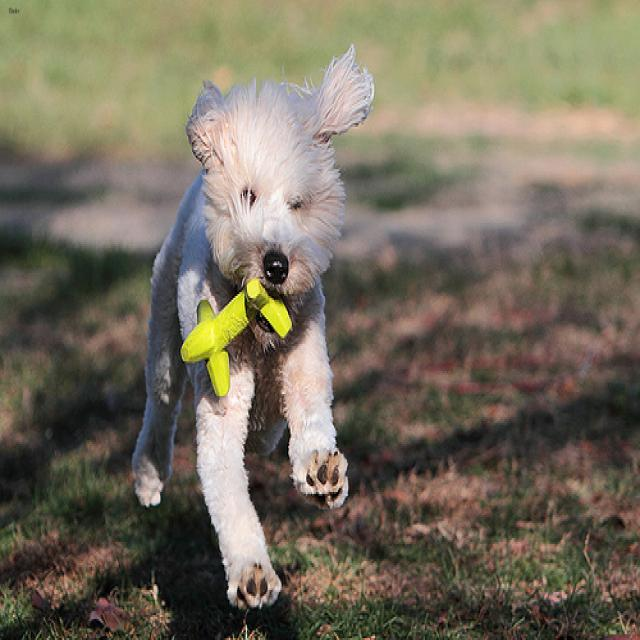dog-wheaten_terrier: (122, 35, 380, 617)
